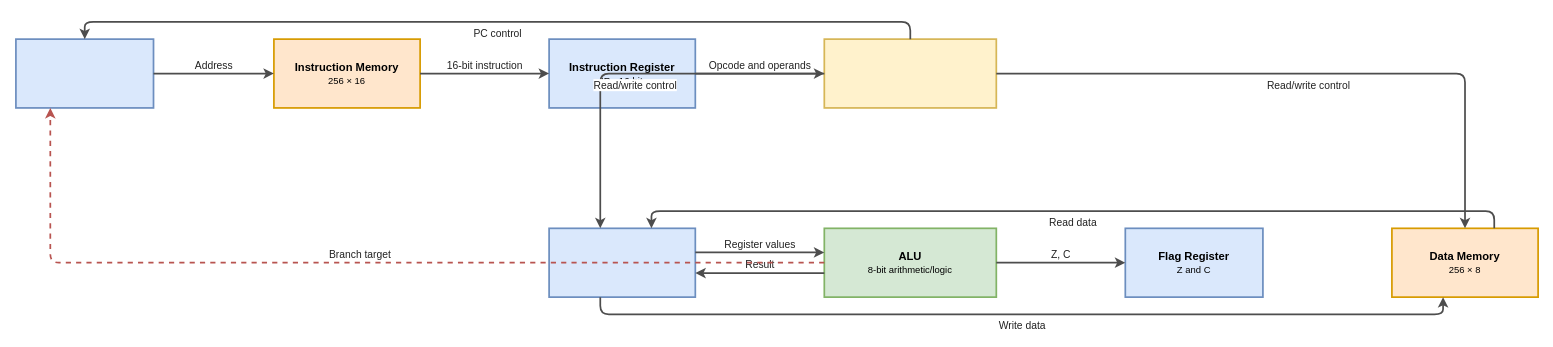
Image size: 1553x347. Some labels were removed from this diagram. Here are the shapes that lost their labels. From the top down, the centre of each, then its label:
the point at 84,73: Program Counter PC · 8-bit
the point at 910,73: Control Unit Instruction decoder + FSM
the point at 622,262: Register File R0–R3 · 8-bit
